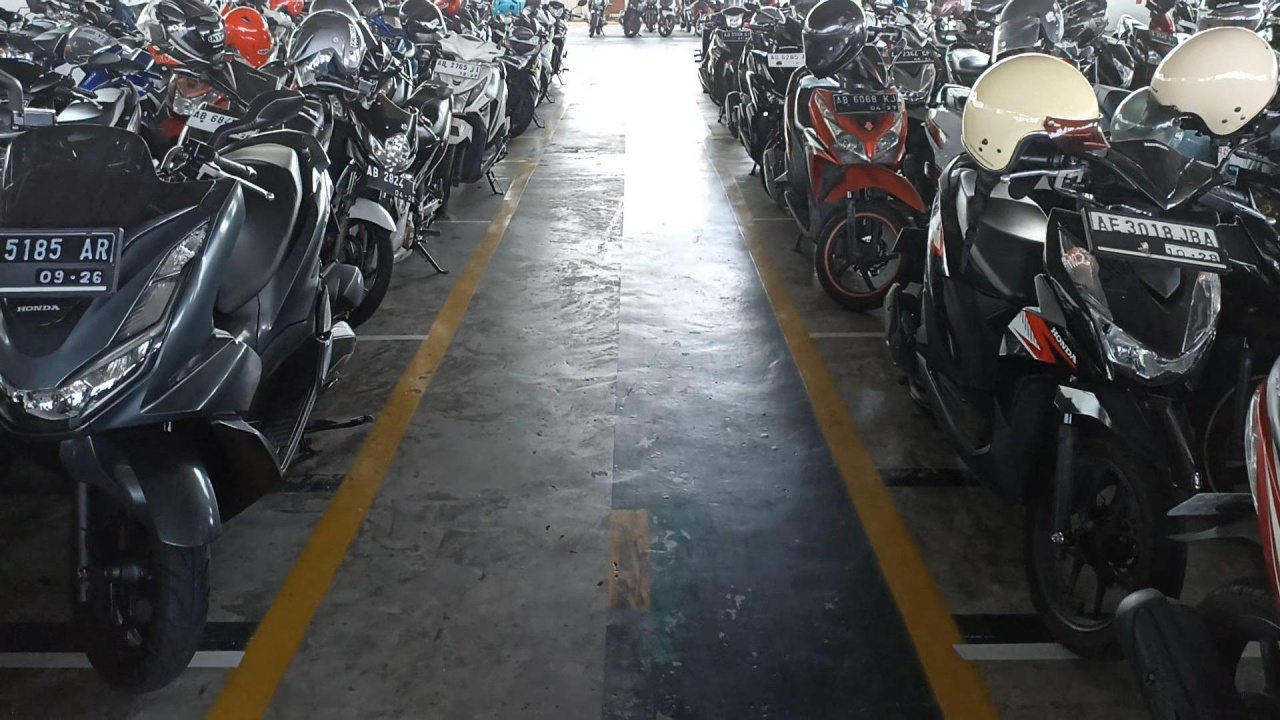plate: (1086, 209, 1230, 271), (365, 163, 416, 204), (833, 93, 899, 114), (433, 58, 481, 80)
